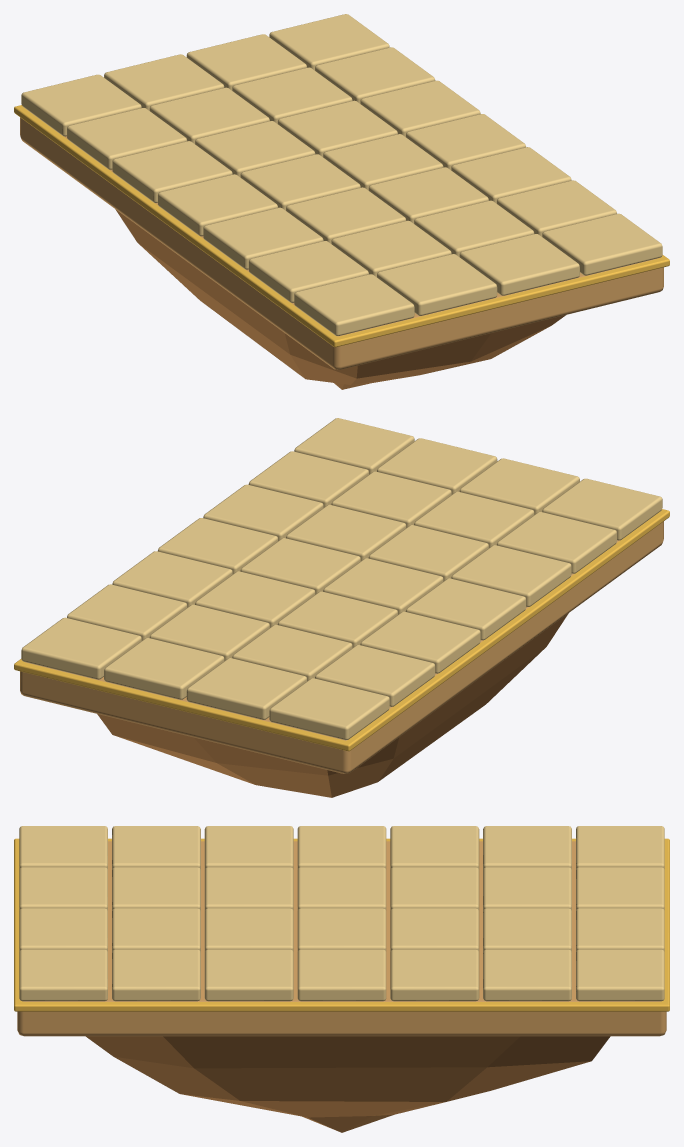
Rendered from PLAT_Ruin_L.glb.
3 renders of one model, top to bottom at view 1: azimuth 30°, elevation 25°; view 2: azimuth 150°, elevation 25°; view 3: azimuth 270°, elevation 25°, orthographic. The views are drawn at different scales.
Parts seen in each view (by area): view 1: Tiles, Slab, Underside, Trim; view 2: Tiles, Slab, Underside, Trim; view 3: Tiles, Underside, Slab, Trim.
Boxes of the visible parts, x1=… form: Tiles: x1=21, y1=14, x2=662, y2=335; Slab: x1=20, y1=117, x2=663, y2=369; Underside: x1=115, y1=209, x2=565, y2=389; Trim: x1=14, y1=105, x2=669, y2=347; Tiles: x1=21, y1=418, x2=662, y2=740; Slab: x1=20, y1=521, x2=663, y2=773; Underside: x1=97, y1=613, x2=568, y2=797; Trim: x1=14, y1=509, x2=669, y2=751; Tiles: x1=19, y1=826, x2=664, y2=1001; Underside: x1=86, y1=1036, x2=610, y2=1132; Slab: x1=17, y1=841, x2=666, y2=1036; Trim: x1=14, y1=838, x2=669, y2=1011.
Bounding box in the file's own units: 6.1 × 3.85 × 10.1.
